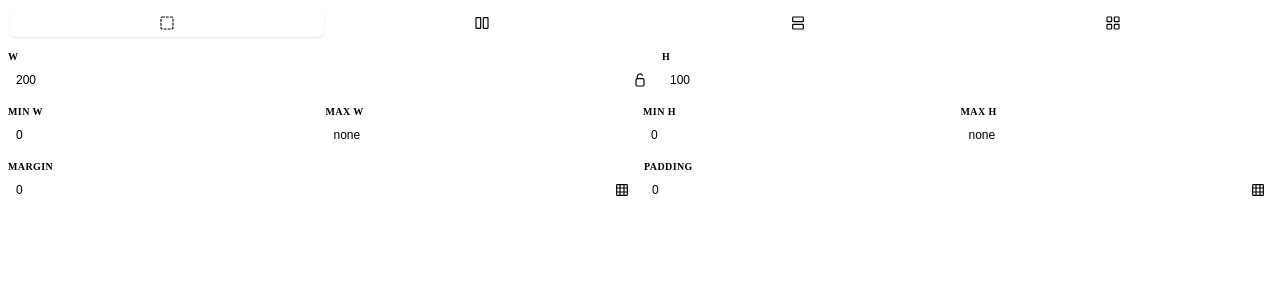
Test case: LayoutSection › expand padding reveals four side fields
The width and height of the screenshot is (1280, 291).
Click the button named "expand padding" at (1258, 190), box [1244, 176, 1272, 204]
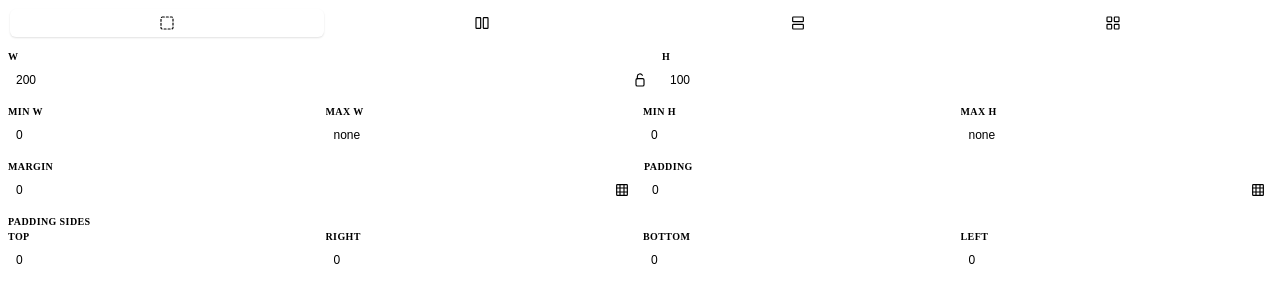
Expected: the field named "Padding top" is shown, [8, 246, 320, 274]
Expected: the field named "Padding left" is shown, [960, 246, 1272, 274]
